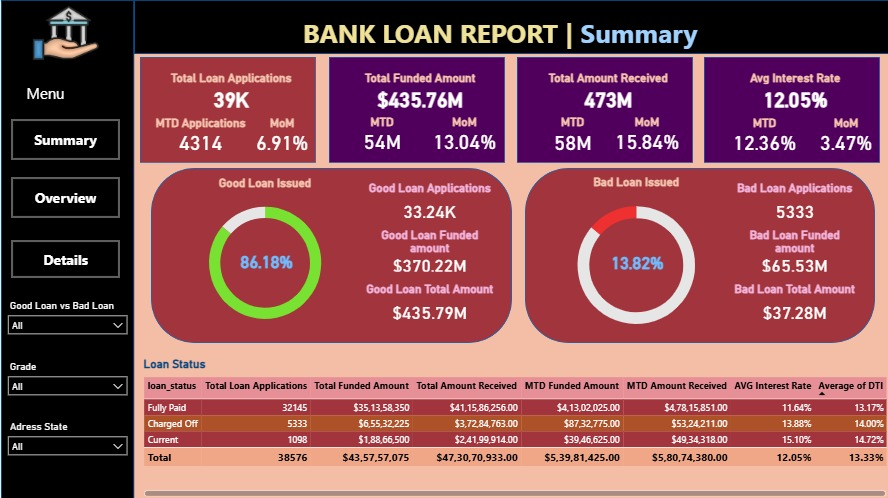

This screenshot's page, from the dashboard's own definition file:
{"tool":"powerbi","page":{"name":"Summary","canvas":[1280,720],"ordinal":0},"visuals":[{"type":"group","id":"g1","title":"Group 2","box":[200.2,82.1,253.4,152.6],"z":0},{"type":"card","title":"Total Loan Applications","fields":{"Values":["Measure Table.Total Loan Applications"]},"box":[216,102.8,231.1,61.2],"z":0,"group":"g2"},{"type":"card","title":"Total Funded Amount","fields":{"Values":["Measure Table.Total Funded Amount"]},"box":[488,102.8,231.1,61.2],"z":0,"group":"g3"},{"type":"card","title":"Total Amount Received","fields":{"Values":["Measure Table.Total Amount Received"]},"box":[758.7,102.8,231.1,61.2],"z":0,"group":"g4"},{"type":"card","title":"Avg Interest Rate","fields":{"Values":["Measure Table.avg interest"]},"box":[1028.1,102.8,231.1,61.2],"z":0,"group":"g5"},{"type":"card","title":"Good Loan Applications","fields":{"Values":["Measure Table.Good Loan Applications"]},"box":[514.2,260.4,204.2,67],"z":0,"group":"g13"},{"type":"card","title":"Bad Loan Applications","fields":{"Values":["Measure Table.Bad Loan Applications"]},"box":[1043.7,260.4,198,67],"z":0,"group":"g14"},{"type":"shape","box":[0,0,191.7,720],"z":1000},{"type":"card","title":"MTD","fields":{"Values":["Measure Table.MTD loan amount"]},"box":[480.8,166.5,135.4,56.2],"z":1000,"group":"g3"},{"type":"card","title":"MTD","fields":{"Values":["Measure Table.mtd total loan amount"]},"box":[764.8,166.5,116.6,57.6],"z":1000,"group":"g4"},{"type":"card","title":"MTD Applications","fields":{"Values":["Measure Table.mtd applications"]},"box":[214.3,167.1,145.7,54.9],"z":1000,"group":"g2"},{"type":"card","title":"MTD","fields":{"Values":["Measure Table.mtd interest"]},"box":[1026.4,167.1,145.7,54.9],"z":1000,"group":"g5"},{"type":"card","title":"Good Loan Funded amount","fields":{"Values":["Measure Table.good loan funded amount"]},"box":[514.2,327.4,204.2,68.4],"z":1000,"group":"g13"},{"type":"card","title":"Bad Loan Funded amount","fields":{"Values":["Measure Table.Bad Loan Funded Amount"]},"box":[1043.7,327.4,198,68.4],"z":1000,"group":"g14"},{"type":"shape","box":[191.5,0,1088.6,77.8],"z":2000},{"type":"card","title":"MoM","fields":{"Values":["select","Measure Table.MoM_Totalamount"]},"box":[615.4,166.5,105.1,56.2],"z":2000,"group":"g3"},{"type":"card","title":"MoM","fields":{"Values":["select","Measure Table.MoM total loan"]},"box":[868.5,166.5,123.8,56.2],"z":2000,"group":"g4"},{"type":"card","title":"MoM","fields":{"Values":["Measure Table.MoM","select"]},"box":[361.7,167.1,86.8,54.9],"z":2000,"group":"g2"},{"type":"card","title":"MoM","fields":{"Values":["select","Measure Table.MoM interest"]},"box":[1173.8,167.1,86.8,54.9],"z":2000,"group":"g5"},{"type":"donutChart","title":"Bad Loan Issued","fields":{"Category":["financial_loan.good loan vs bad loan"],"Y":["Measure Table.Total Loan Applications"]},"box":[764,251.4,300.3,240.8],"z":2000,"group":"g9"},{"type":"donutChart","title":"Good Loan Issued","fields":{"Category":["financial_loan.good loan vs bad loan"],"Y":["Measure Table.Total Loan Applications"]},"box":[238.4,252.8,282.6,231],"z":2000,"group":"g10"},{"type":"card","title":"Good Loan Total Amount","fields":{"Values":["Measure Table.good loan total amount"]},"box":[514.2,405.4,204.2,68.4],"z":2000,"group":"g13"},{"type":"card","title":"Bad Loan Total Amount","fields":{"Values":["Measure Table.Bad Loan Total Payment"]},"box":[1043.7,405.4,198,68.4],"z":2000,"group":"g14"},{"type":"shape","box":[200.2,82.1,253.2,152.2],"z":2002,"group":"g1"},{"type":"shape","box":[472.3,82.1,253.2,152.2],"z":2002,"group":"g6"},{"type":"shape","box":[743,82.1,253.2,152.2],"z":2002,"group":"g7"},{"type":"shape","box":[1012.3,82.1,253.2,152.2],"z":2002,"group":"g8"},{"type":"group","id":"g2","title":"Group 1","box":[214.3,102.8,234.2,119.2],"z":2502,"group":"g1"},{"type":"group","id":"g3","title":"Group 1","box":[480.8,102.8,239.7,119.9],"z":2502,"group":"g6"},{"type":"group","id":"g4","title":"Group 1","box":[758.7,102.8,233.6,121.3],"z":2502,"group":"g7"},{"type":"group","id":"g5","title":"Group 1","box":[1026.4,102.8,234.2,119.2],"z":2502,"group":"g8"},{"type":"group","id":"g6","title":"Group 2","box":[472.3,82.1,253.2,152.2],"z":3000},{"type":"group","id":"g7","title":"Group 2","box":[743,82.1,253.2,152.2],"z":4000},{"type":"group","id":"g8","title":"Group 2","box":[1012.3,82.1,253.4,152.6],"z":5000},{"type":"shape","box":[216,241.9,519.8,252],"z":6000,"group":"g15"},{"type":"shape","box":[754.6,241.9,504,252],"z":6000,"group":"g16"},{"type":"group","id":"g9","title":"Group 3","box":[764,251.4,300.3,240.8],"z":6000,"group":"g11"},{"type":"group","id":"g10","title":"Group 3","box":[238.4,252.8,282.6,231],"z":6000,"group":"g12"},{"type":"actionButton","box":[14.4,254.9,157,59],"z":6000},{"type":"group","id":"g11","title":"Group 5","box":[764,251.4,476.2,240.8],"z":7000,"group":"g16"},{"type":"group","id":"g12","title":"Group 5","box":[238.4,252.8,478.5,231],"z":7000,"group":"g15"},{"type":"group","id":"g13","title":"Group 4","box":[514.2,260.4,202.7,213.4],"z":7000,"group":"g12"},{"type":"group","id":"g14","title":"Group 4","box":[1043.7,260.4,196.5,213.4],"z":7000,"group":"g11"},{"type":"actionButton","box":[14.4,345.6,157,54.7],"z":7000},{"type":"card","fields":{"Values":["Measure Table.Good Loan %"]},"box":[321,346.5,122.4,58.8],"z":7500,"group":"g10"},{"type":"card","fields":{"Values":["Measure Table.Bad Loan%"]},"box":[853.7,347.1,124.5,61.6],"z":7500,"group":"g9"},{"type":"actionButton","box":[14.4,171.4,157,59],"z":8000},{"type":"textbox","box":[14.4,115.2,99.4,43.2],"z":9000},{"type":"slicer","fields":{"Values":["financial_loan.grade"]},"box":[0,514.1,191.5,61.9],"z":10000},{"type":"slicer","fields":{"Values":["financial_loan.good loan vs bad loan"]},"box":[0,426.2,191.5,67.7],"z":11000},{"type":"slicer","fields":{"Values":["financial_loan.address_state"]},"box":[0,600.5,191.5,69.1],"z":12000},{"type":"textbox","box":[326.9,2.9,763.2,87.8],"z":13000},{"type":"image","box":[28.8,0,128.2,95],"z":14000},{"type":"group","id":"g15","title":"Group 6","box":[216,241.9,519.8,252],"z":15000},{"type":"group","id":"g16","title":"Group 6","box":[754.6,241.9,504,250.6],"z":16000},{"type":"tableEx","title":"Loan Status","fields":{"Values":["financial_loan.loan_status","Measure Table.Total Loan Applications","Measure Table.Total Funded Amount","Measure Table.Total Amount Received","Measure Table.MTD funded amount","Measure Table.mtd total received","Measure Table.avg interest","Avg(financial_loan.dti)"]},"box":[199.9,514.5,1080.1,206.1],"z":17000}]}

Visuals, with their boxes in screenshot pixels (x1, y1, x2, y2), scaled from the page's 1280x720 canvas onto the 888x498 screenshot:
"Group 2" group: [139,57,315,162]
"Total Loan Applications" card: [150,71,310,113]
"Total Funded Amount" card: [339,71,499,113]
"Total Amount Received" card: [526,71,687,113]
"Avg Interest Rate" card: [713,71,874,113]
"Good Loan Applications" card: [357,180,498,226]
"Bad Loan Applications" card: [724,180,861,226]
shape: [0,0,133,497]
"MTD" card: [334,115,427,154]
"MTD" card: [531,115,611,155]
"MTD Applications" card: [149,116,250,154]
"MTD" card: [712,116,813,154]
"Good Loan Funded amount" card: [357,226,498,274]
"Bad Loan Funded amount" card: [724,226,861,274]
shape: [133,0,887,54]
"MoM" card: [427,115,500,154]
"MoM" card: [603,115,688,154]
"MoM" card: [251,116,311,154]
"MoM" card: [814,116,875,154]
"Bad Loan Issued" donutChart: [530,174,738,340]
"Good Loan Issued" donutChart: [165,175,361,335]
"Good Loan Total Amount" card: [357,280,498,328]
"Bad Loan Total Amount" card: [724,280,861,328]
shape: [139,57,315,162]
shape: [328,57,503,162]
shape: [515,57,691,162]
shape: [702,57,878,162]
"Group 1" group: [149,71,311,154]
"Group 1" group: [334,71,500,154]
"Group 1" group: [526,71,688,155]
"Group 1" group: [712,71,875,154]
"Group 2" group: [328,57,503,162]
"Group 2" group: [515,57,691,162]
"Group 2" group: [702,57,878,162]
shape: [150,167,510,342]
shape: [524,167,873,342]
"Group 3" group: [530,174,738,340]
"Group 3" group: [165,175,361,335]
actionButton: [10,176,119,217]
"Group 5" group: [530,174,860,340]
"Group 5" group: [165,175,497,335]
"Group 4" group: [357,180,497,328]
"Group 4" group: [724,180,860,328]
actionButton: [10,239,119,277]
card - Measure Table.Good Loan %: [223,240,308,280]
card - Measure Table.Bad Loan%: [592,240,679,283]
actionButton: [10,119,119,159]
textbox: [10,80,79,110]
slicer - financial_loan.grade: [0,356,133,398]
slicer - financial_loan.good loan vs bad loan: [0,295,133,342]
slicer - financial_loan.address_state: [0,415,133,463]
textbox: [227,2,756,63]
image: [20,0,109,66]
"Group 6" group: [150,167,510,342]
"Group 6" group: [524,167,873,341]
"Loan Status" tableEx: [139,356,887,497]
